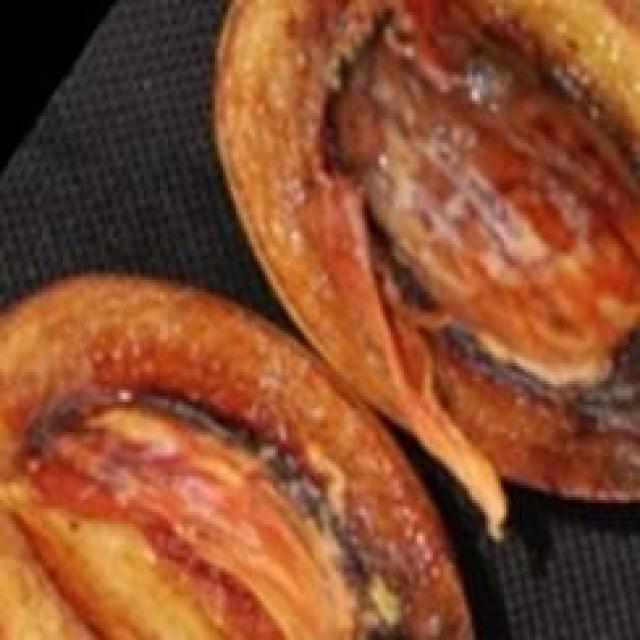damaged: (215, 0, 637, 518), (0, 274, 472, 637)
